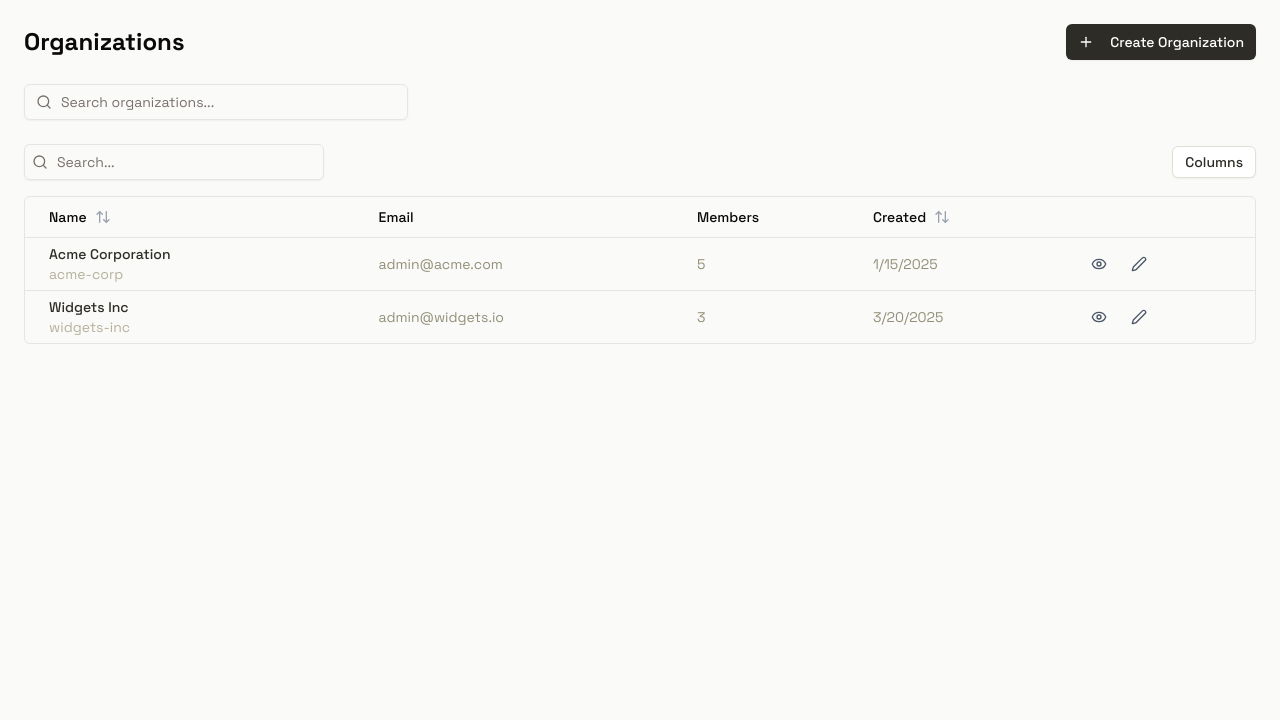
Test: Organizations › opens edit organization modal via action button
Expected: the text "Acme Corporation" is shown, [49,244,170,264]
Click the button titled "Edit organization" in the row of "Acme Corporation".
click(1139, 264)  # box [1123,248,1155,280]
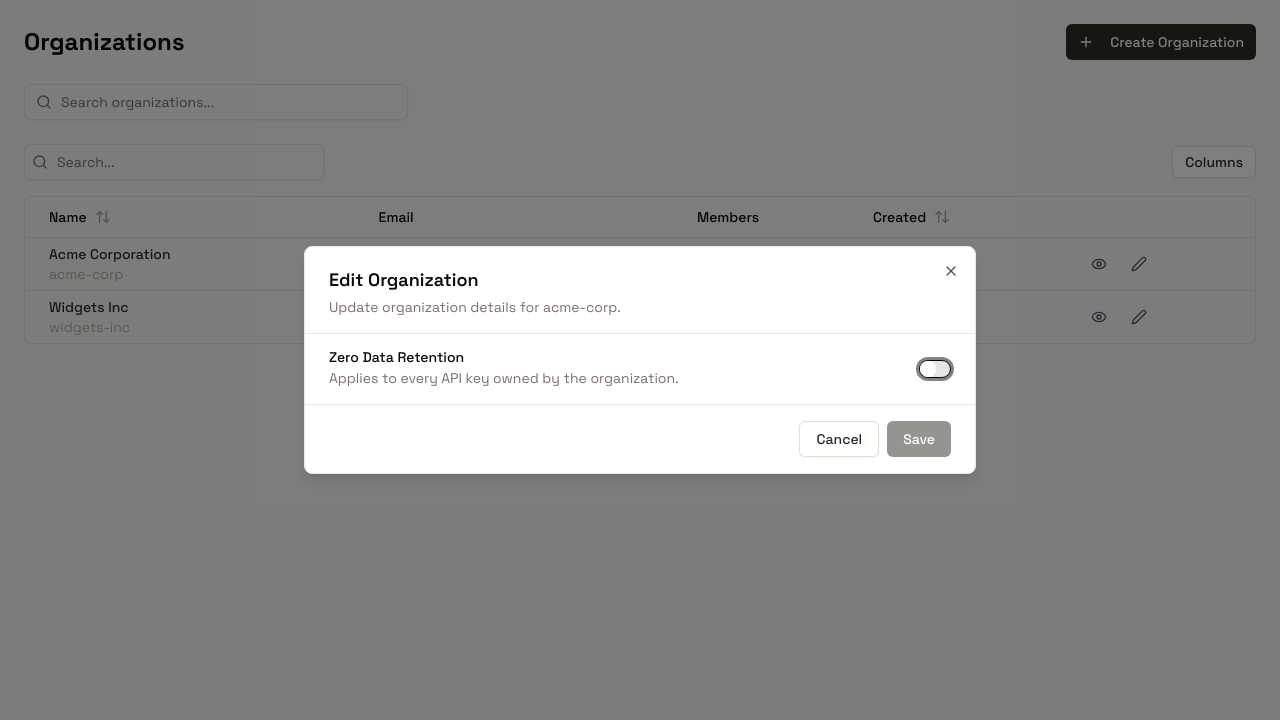
Expected: the heading "Edit Organization" is shown, [329,268,479,291]
